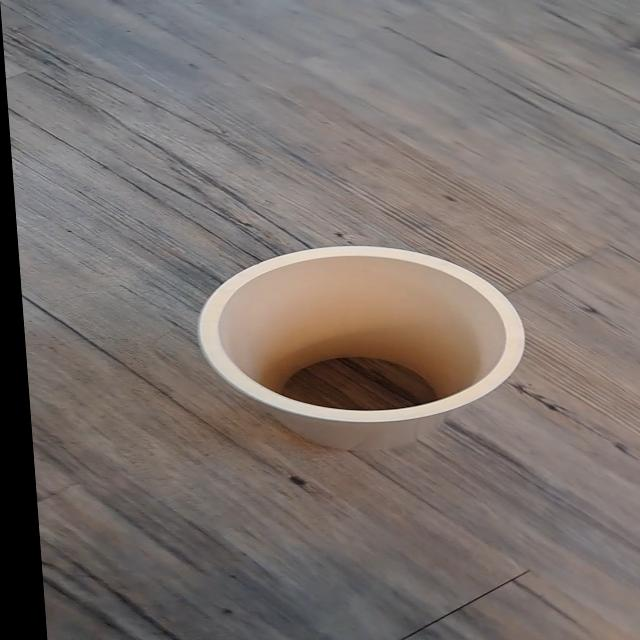CORAL: (154, 227, 581, 457)
